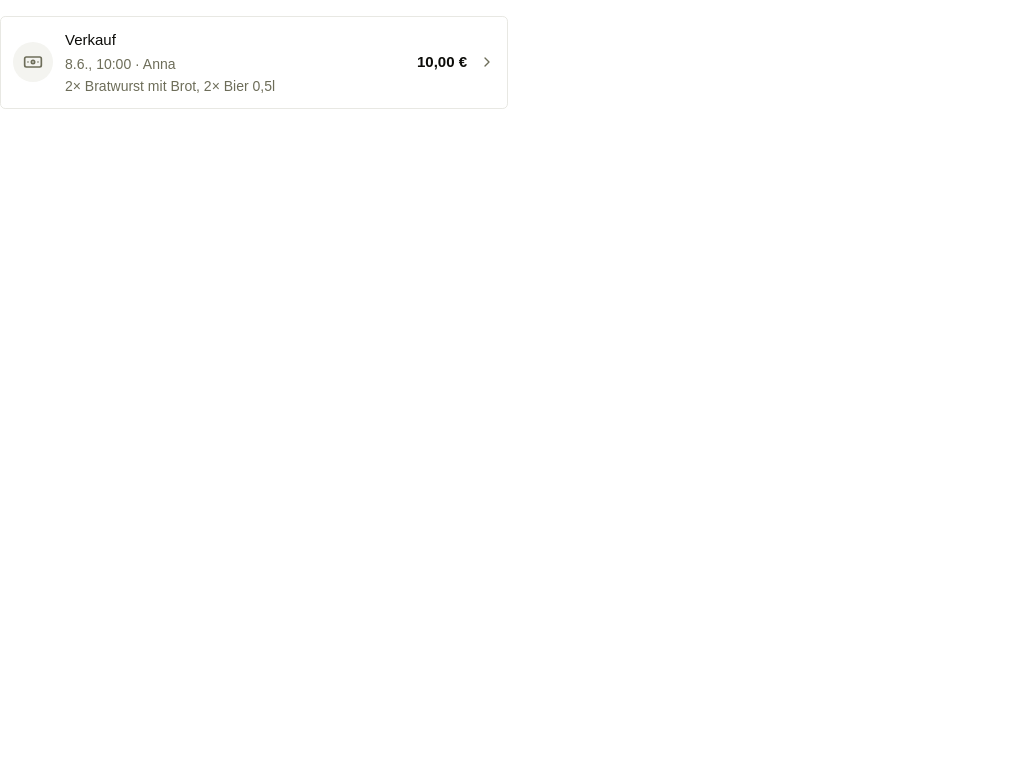
Scenario: VorgangHistorie › zeigt den Positionskommentar unter seiner Position im Detail
The image size is (1024, 768).
What coordinates should you click on to do the following:
click the button "Verkauf"
I would click on:
 (33, 62)
Its box is x1=0 y1=16 x2=508 y2=108.
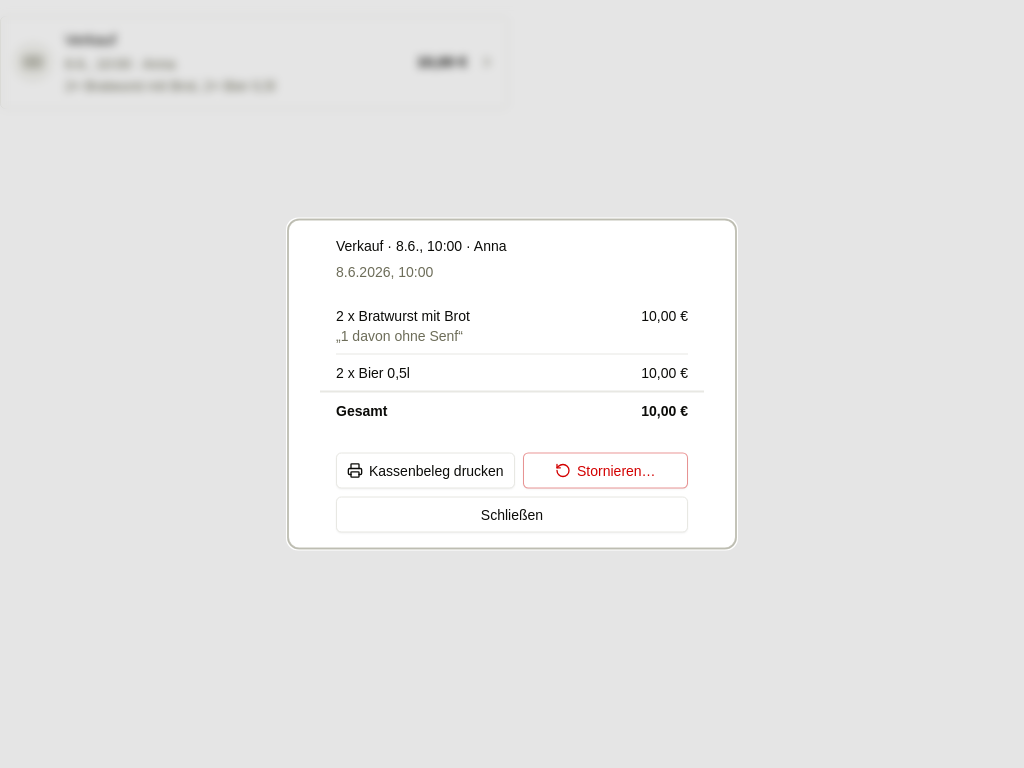
Result: the text "„1 davon ohne Senf“" is shown once at x1=336 y1=328 x2=463 y2=344
